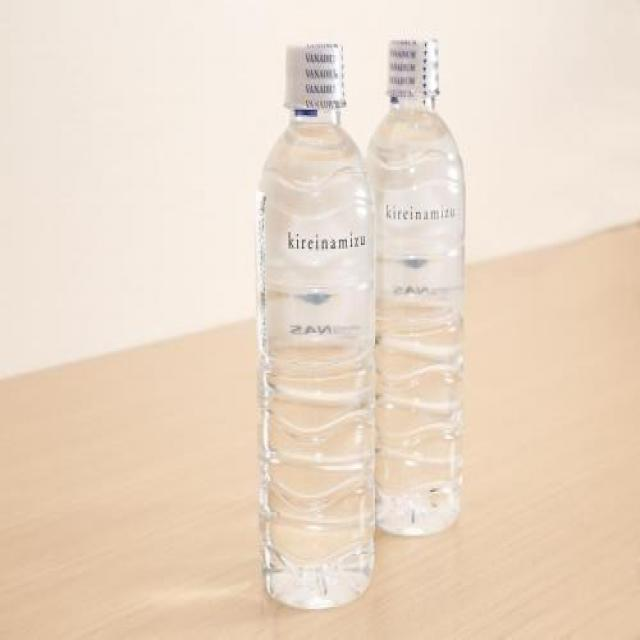bottle: (246, 34, 379, 608), (375, 28, 474, 544)
